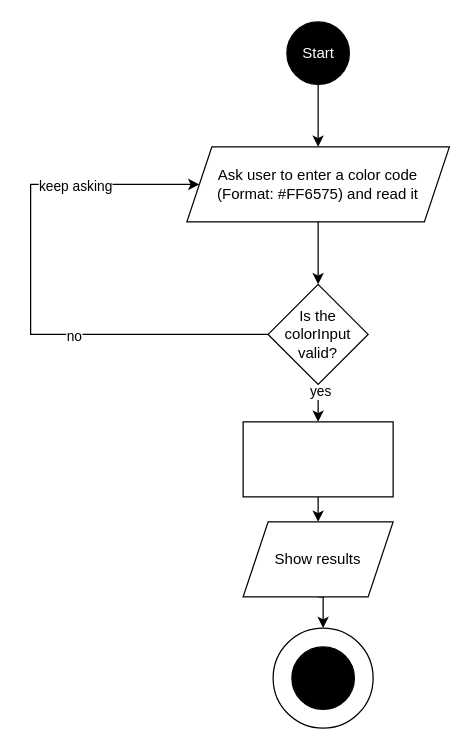
Some shapes in this 471 by 750 pixel diagram are drawn without their labels. Each missing label, with the centre of its shape:
End: [322,677]
Extract RGB values: [317,459]
